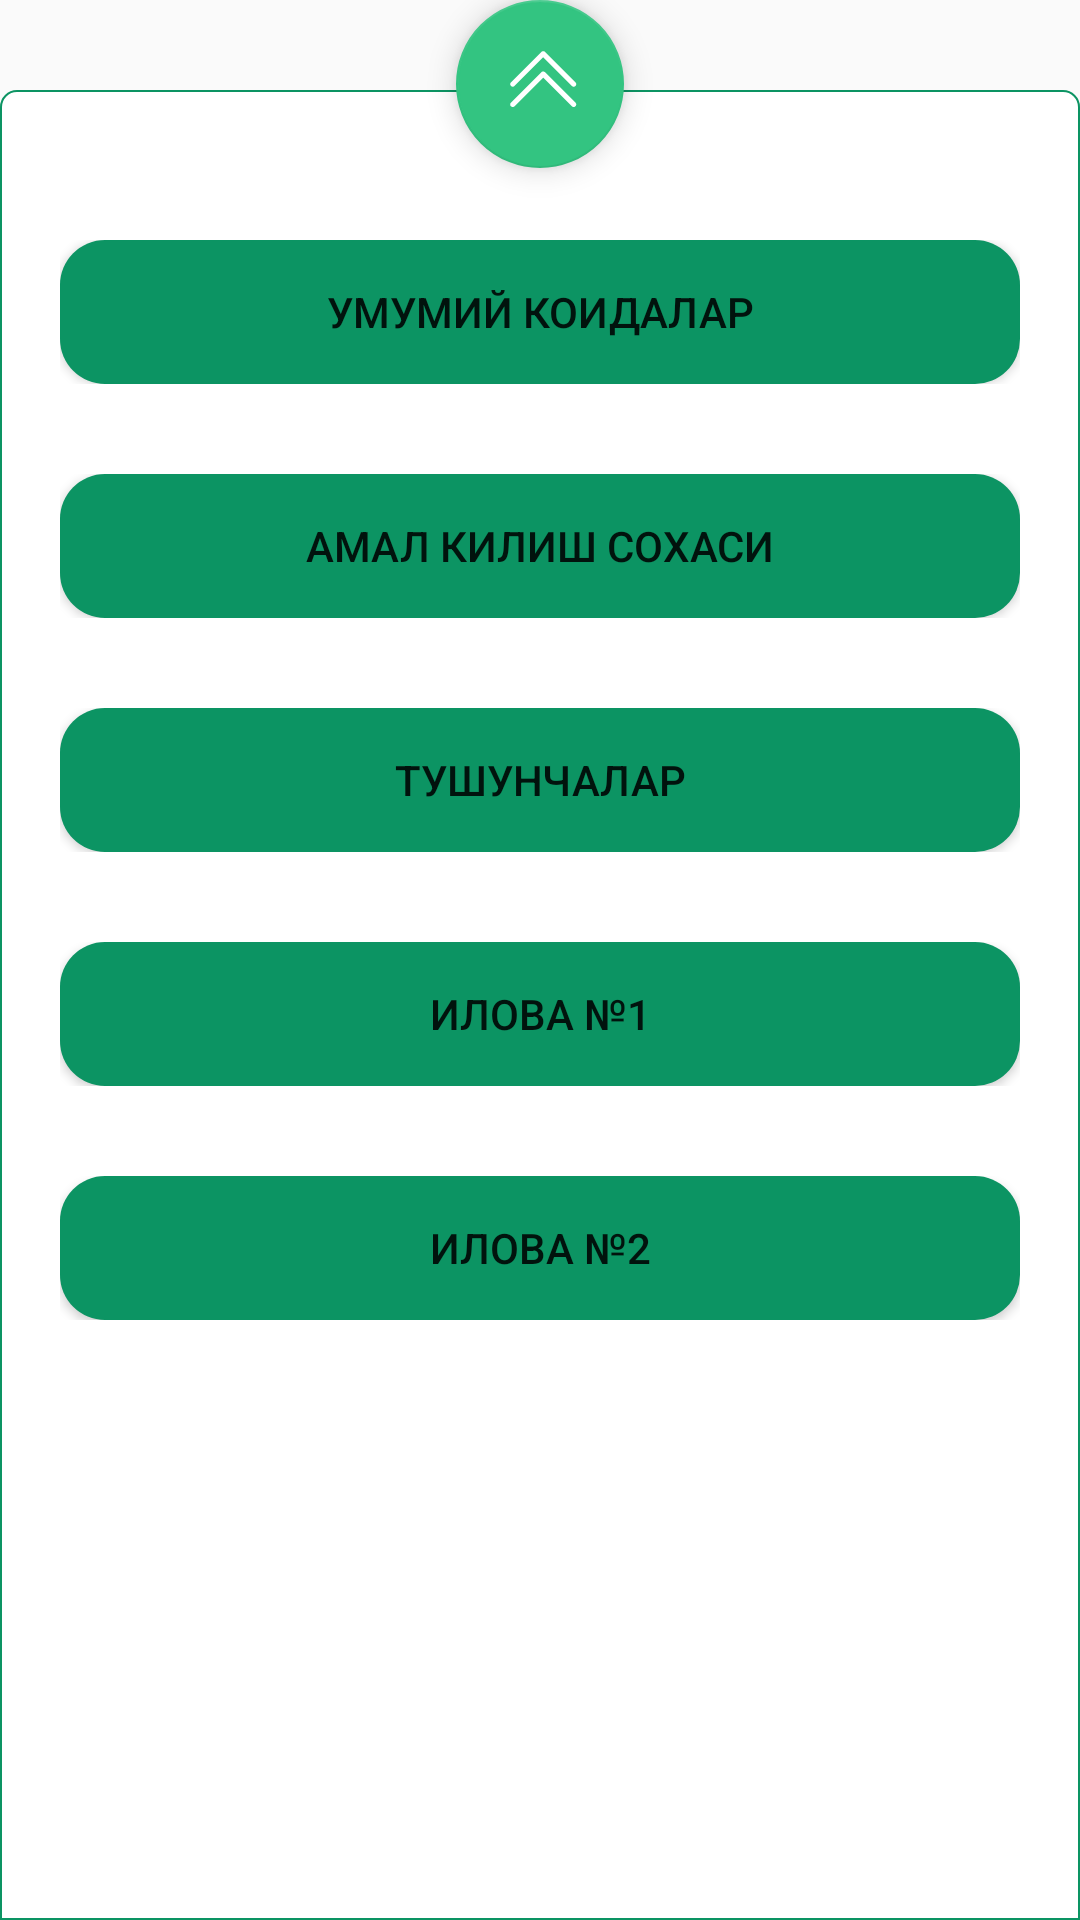

Icons on this 1080w x 1920h Android screen, each with the point to tap as [x,y]:
upbutton: [540,84]
